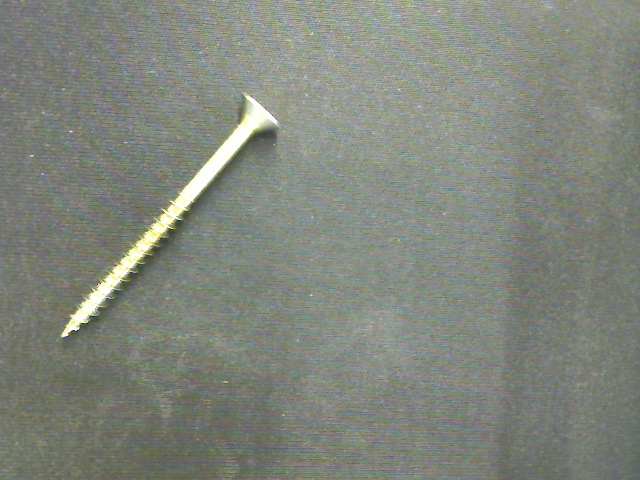Screw: (61, 93, 282, 340)
